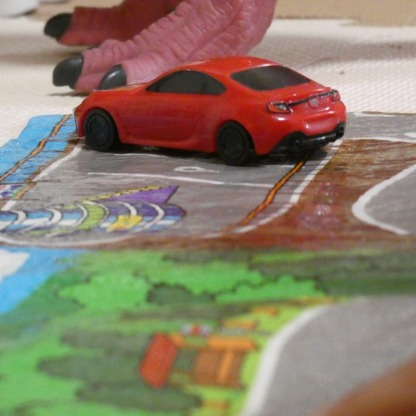car: (82, 54, 346, 171)
